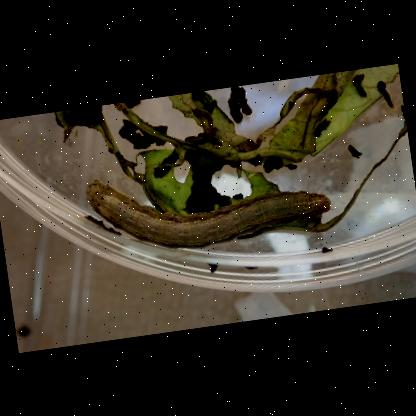Fall Armyworm Larvae: (78, 146, 339, 266)
